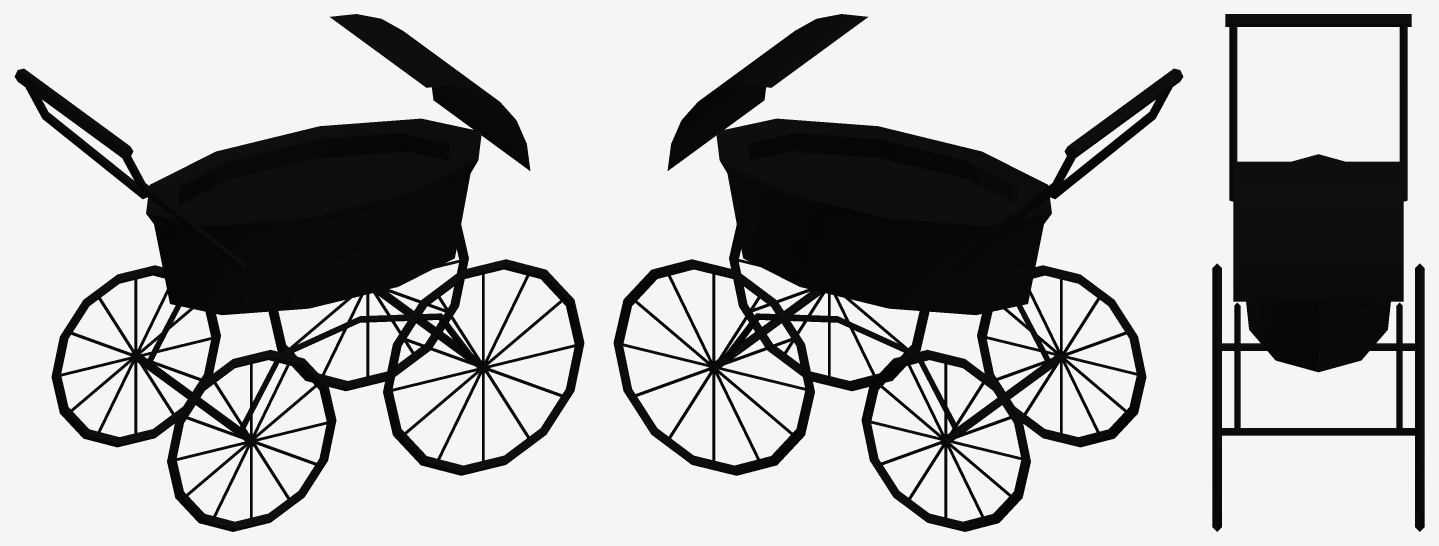
File: SM_pram.fbx
3 renders of one model, left to right at view 1: azimuth 30°, elevation 25°; view 2: azimuth 150°, elevation 25°; view 3: azimuth 270°, elevation 25°, orthographic. The views are drawn at different scales.
Visible parts, largest first — view 1: pram_carriage, pram; view 2: pram_carriage, pram; view 3: pram_carriage, pram.
Boxes of the visible parts, x1,y1,x2,y2 form: pram_carriage: (14,14,530,314); pram: (51,224,584,531); pram_carriage: (667,14,1183,314); pram: (613,224,1146,531); pram_carriage: (1225,14,1411,372); pram: (1212,263,1424,531).
Size of the model in its own units: 1.15 by 0.9705 by 0.524.
